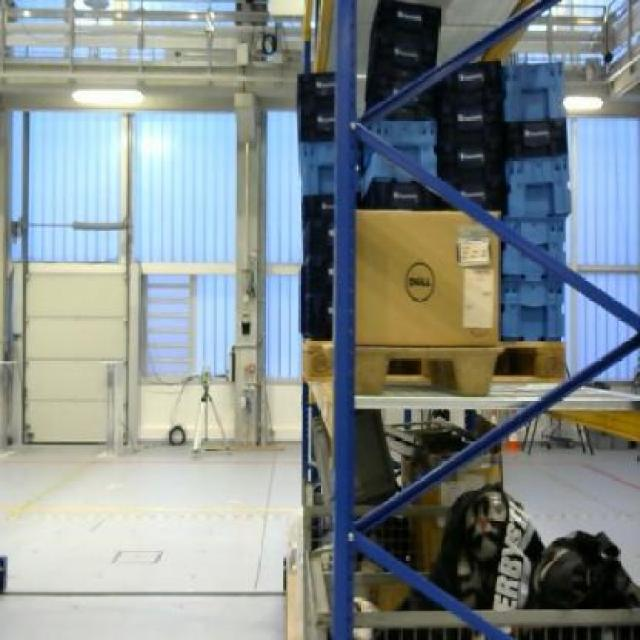box: (352, 208, 500, 348)
